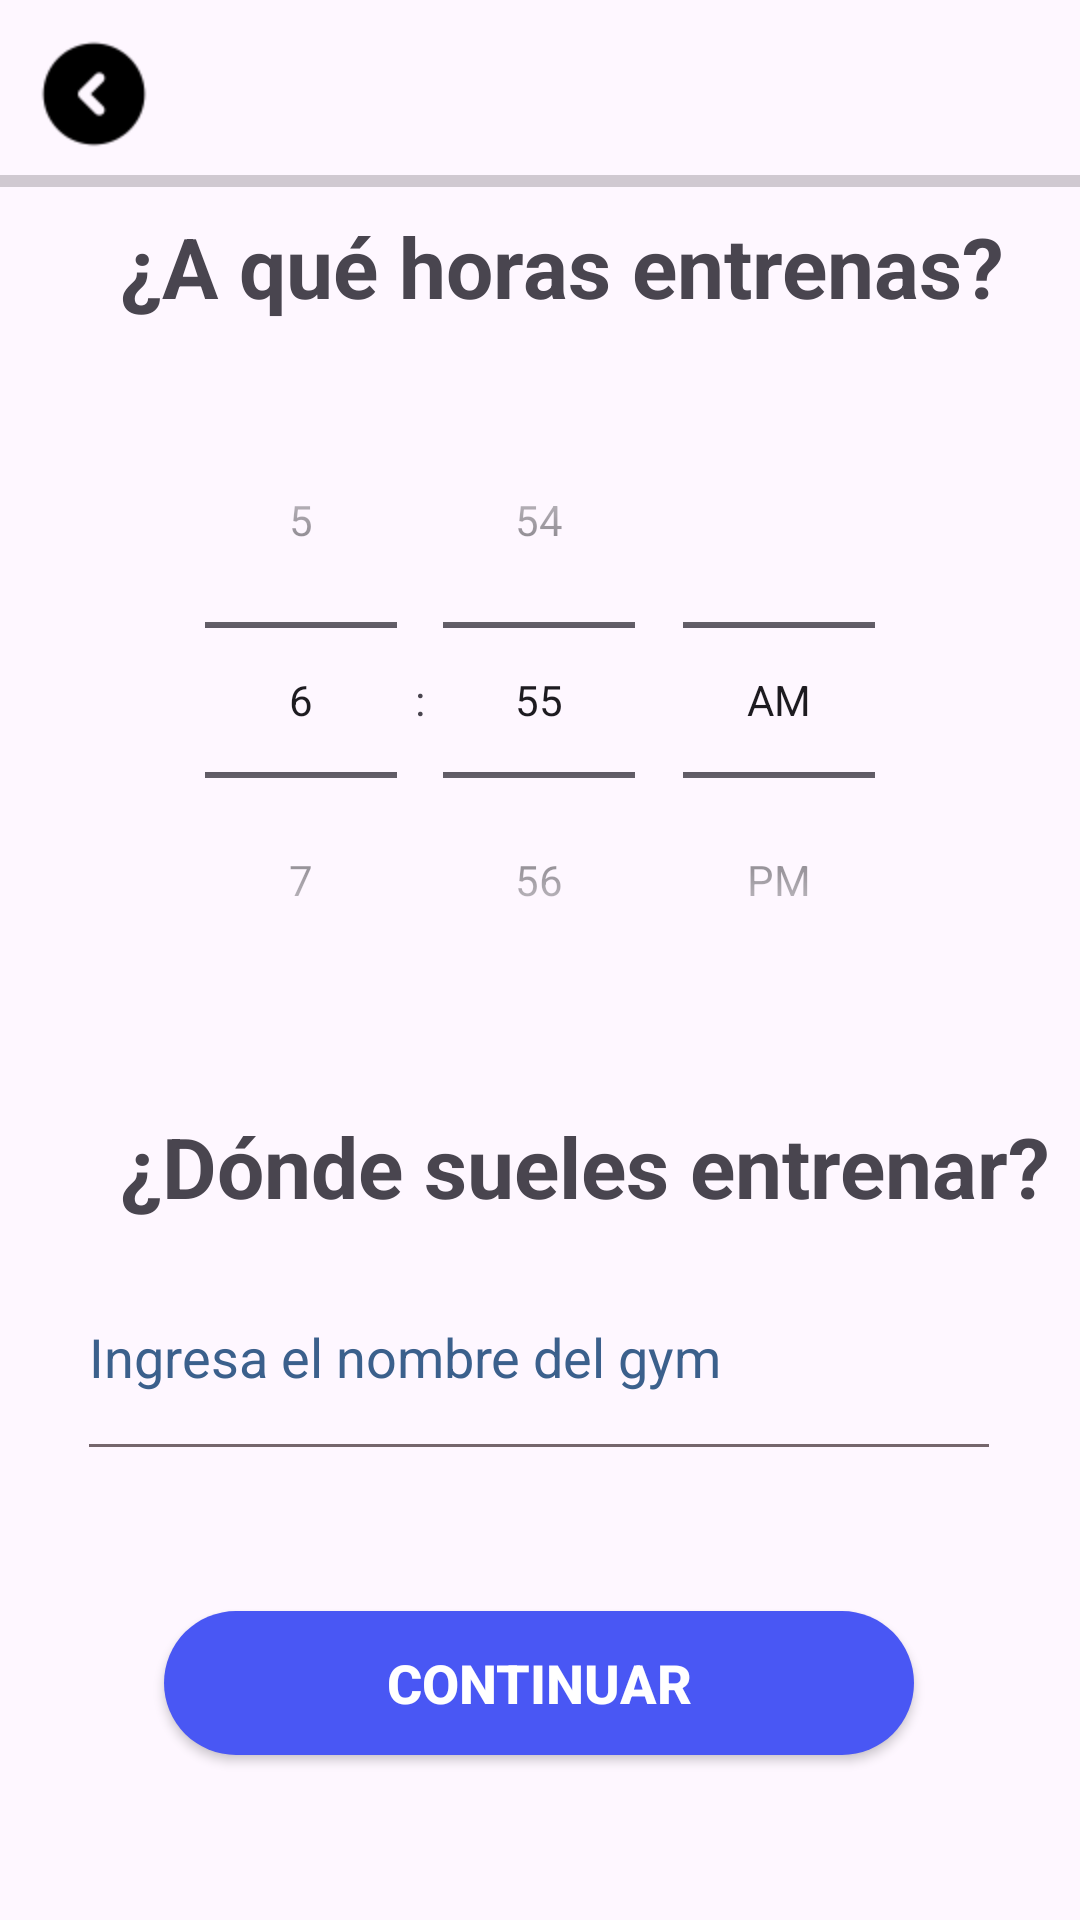

Named icons in this screenshot (1080x1920) and their centers, [x,y]:
flecha: [94,94]
